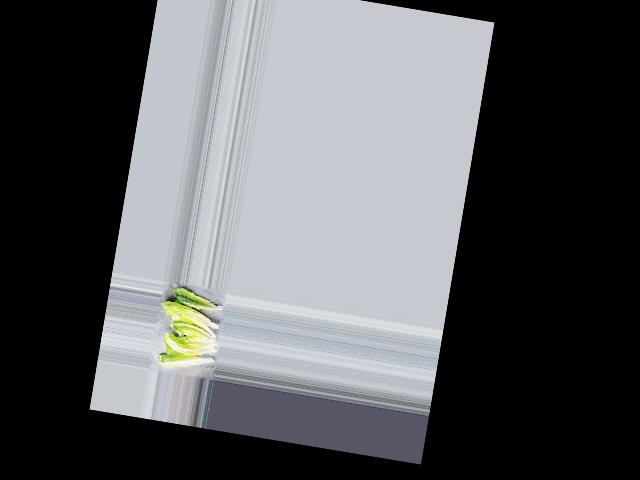lettuce: (171, 288, 226, 314)
